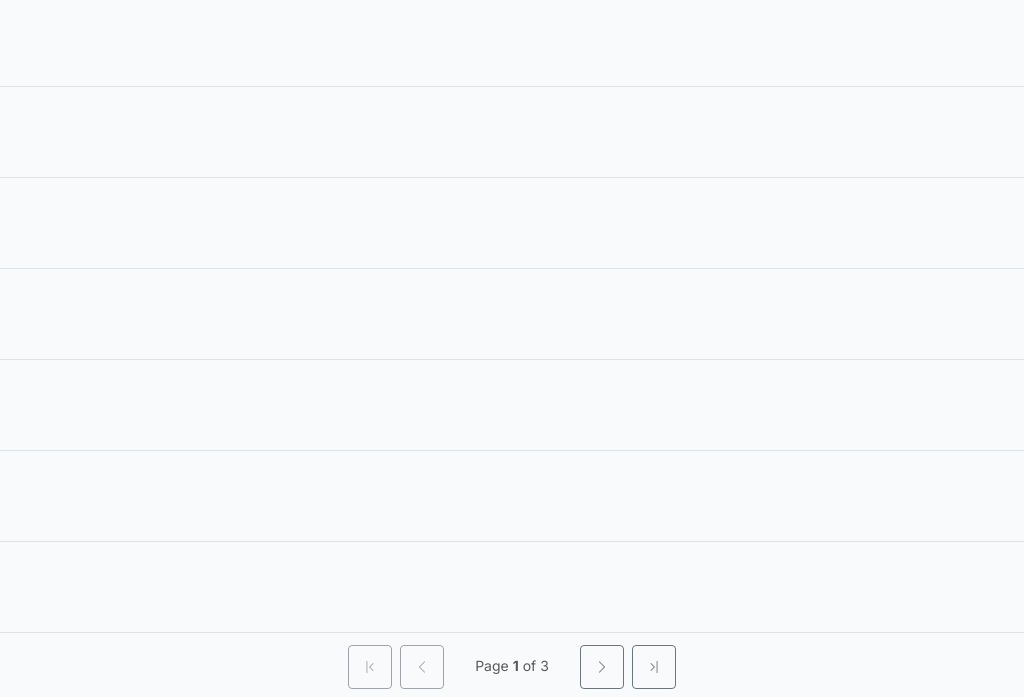
Test: 20 rows per page › after a page change only the new page is in the table (no rows left over from the old one)
The width and height of the screenshot is (1024, 697).
(page scrolled)
Click the button named "Next page": (602,667) [580,645,624,689]
(page scrolled)
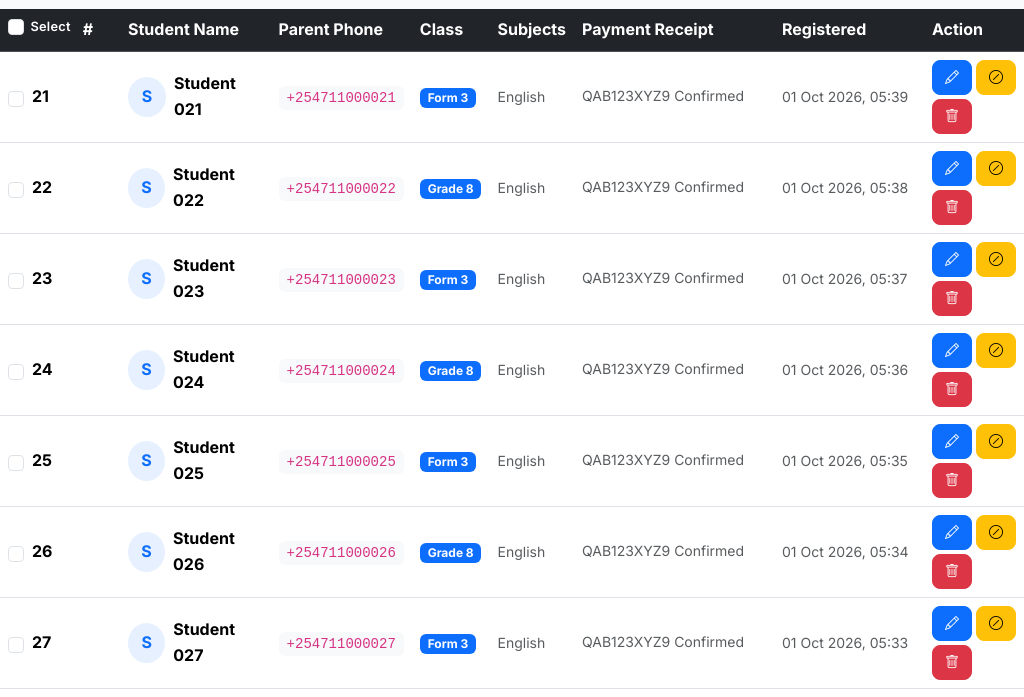
Expected: the number of rows with class "student-row-wrapper" is 20
